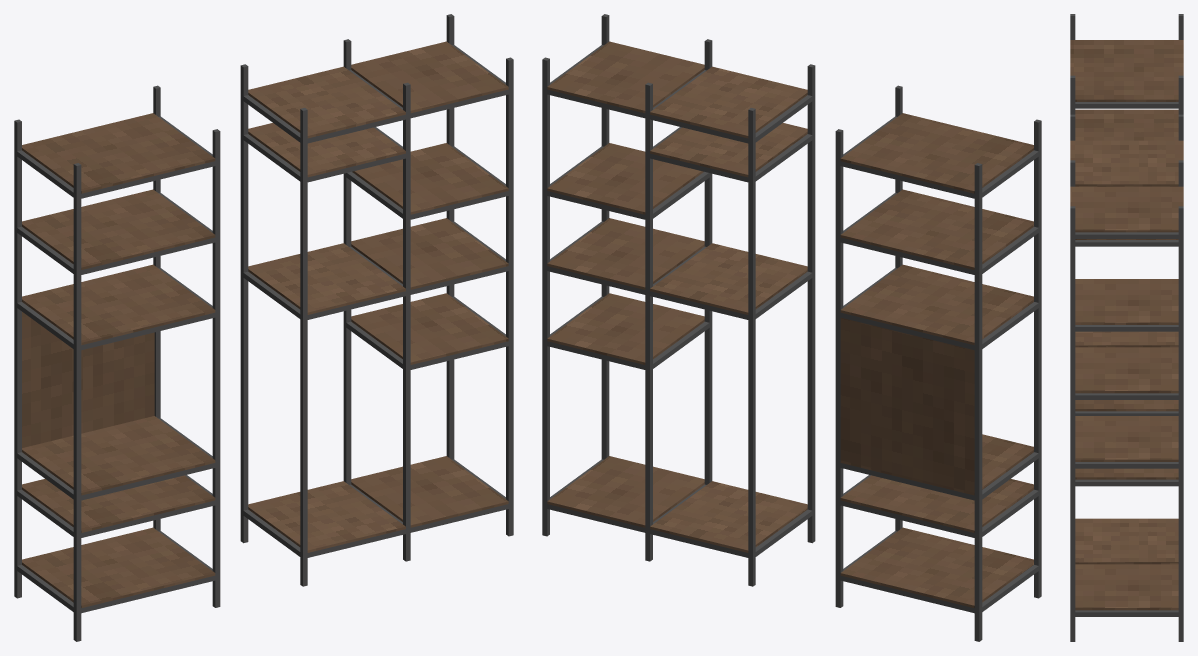
Rendered from metal__wood_shelves.glb.
3 views of the same model, side by side, from view 1: azimuth 30°, elevation 25°; view 2: azimuth 150°, elevation 25°; view 3: azimuth 270°, elevation 25° (orthographic). The views are drawn at different scales.
Parts seen in each view (by area): view 1: Dark wood(85761AF8-3E8E-4EB7-82BF-5B0F585D17DD)_11, Dark wood(28F1198B-73F6-4FEE-9F7B-B69DE7A279D1)_5, Dark wood(1244F119-739F-46DC-8262-0EE8339AA590)_6, Dark wood(0E38AE3A-FBAC-497E-BF09-7EBB66E1BC81)_7, Dark wood(66714A9A-6772-40F4-8CCC-592F55B5C105)_10, Dark wood(6B2FA57E-49BA-439C-B871-0D3EC2E29B31)_8, Dark wood(124CF71E-D57F-4374-884E-A9D99B8D982C)_17, Dark wood(81BDF483-3A7A-4555-8195-AB65B536C3D4)_15, Dark wood(DE1FD934-B613-4BFE-A4E1-D1FFCBE2BC50)_19, Dark wood(4CB23103-FE6A-4BB9-BEF6-0A04AABC9836)_20, Dark wood(F0B161CA-5680-43B2-930D-1FDB2C4F1EB1)_16, Dark wood(A5820728-DC31-44BF-BDFF-5A1452BBE9AD)_12 (+29 smaller); view 2: Dark wood(85761AF8-3E8E-4EB7-82BF-5B0F585D17DD)_11, Dark wood(28F1198B-73F6-4FEE-9F7B-B69DE7A279D1)_5, Dark wood(1244F119-739F-46DC-8262-0EE8339AA590)_6, Dark wood(0E38AE3A-FBAC-497E-BF09-7EBB66E1BC81)_7, Dark wood(66714A9A-6772-40F4-8CCC-592F55B5C105)_10, Dark wood(124CF71E-D57F-4374-884E-A9D99B8D982C)_17, Dark wood(81BDF483-3A7A-4555-8195-AB65B536C3D4)_15, Dark wood(DE1FD934-B613-4BFE-A4E1-D1FFCBE2BC50)_19, Dark wood(4CB23103-FE6A-4BB9-BEF6-0A04AABC9836)_20, Dark wood(F0B161CA-5680-43B2-930D-1FDB2C4F1EB1)_16, Dark wood(A5820728-DC31-44BF-BDFF-5A1452BBE9AD)_12, Dark wood(D76B1013-4CEE-4679-A515-0DD16A063F7F)_13 (+28 smaller); view 3: Dark wood(28F1198B-73F6-4FEE-9F7B-B69DE7A279D1)_5, Dark wood(81BDF483-3A7A-4555-8195-AB65B536C3D4)_15, Dark wood(124CF71E-D57F-4374-884E-A9D99B8D982C)_17, Dark wood(D76B1013-4CEE-4679-A515-0DD16A063F7F)_13, Dark wood(F0B161CA-5680-43B2-930D-1FDB2C4F1EB1)_16, Dark wood(4CB23103-FE6A-4BB9-BEF6-0A04AABC9836)_20, Dark wood(A5820728-DC31-44BF-BDFF-5A1452BBE9AD)_12, Dark wood(32CC674D-AC59-4E3B-B3CA-91F3BCCDACA9)_14, Dark wood(1244F119-739F-46DC-8262-0EE8339AA590)_6, Black metal(E4B611B2-5154-45BB-9670-57C68EE21DF8)_35, Black metal(BE32EDC8-C9D1-462D-BB37-27DAF035CB7C)_34, Dark wood(DE1FD934-B613-4BFE-A4E1-D1FFCBE2BC50)_19 (+13 smaller).
Boxes of the visible parts, x1,y1,x2,y2 form: Dark wood(85761AF8-3E8E-4EB7-82BF-5B0F585D17DD)_11: (22, 312, 154, 447); Dark wood(28F1198B-73F6-4FEE-9F7B-B69DE7A279D1)_5: (22, 113, 215, 193); Dark wood(1244F119-739F-46DC-8262-0EE8339AA590)_6: (22, 189, 215, 269); Dark wood(0E38AE3A-FBAC-497E-BF09-7EBB66E1BC81)_7: (22, 264, 215, 345); Dark wood(66714A9A-6772-40F4-8CCC-592F55B5C105)_10: (22, 527, 215, 607); Dark wood(6B2FA57E-49BA-439C-B871-0D3EC2E29B31)_8: (22, 416, 215, 495); Dark wood(124CF71E-D57F-4374-884E-A9D99B8D982C)_17: (248, 66, 405, 138); Dark wood(81BDF483-3A7A-4555-8195-AB65B536C3D4)_15: (351, 41, 508, 113); Dark wood(DE1FD934-B613-4BFE-A4E1-D1FFCBE2BC50)_19: (248, 243, 405, 314); Dark wood(4CB23103-FE6A-4BB9-BEF6-0A04AABC9836)_20: (248, 481, 405, 552); Dark wood(F0B161CA-5680-43B2-930D-1FDB2C4F1EB1)_16: (351, 456, 508, 527); Dark wood(A5820728-DC31-44BF-BDFF-5A1452BBE9AD)_12: (351, 293, 508, 364); Dark wood(85761AF8-3E8E-4EB7-82BF-5B0F585D17DD)_11: (840, 317, 974, 492); Dark wood(28F1198B-73F6-4FEE-9F7B-B69DE7A279D1)_5: (840, 113, 1033, 193); Dark wood(1244F119-739F-46DC-8262-0EE8339AA590)_6: (840, 189, 1033, 269); Dark wood(0E38AE3A-FBAC-497E-BF09-7EBB66E1BC81)_7: (840, 264, 1033, 345); Dark wood(66714A9A-6772-40F4-8CCC-592F55B5C105)_10: (840, 527, 1033, 607); Dark wood(124CF71E-D57F-4374-884E-A9D99B8D982C)_17: (650, 66, 807, 138); Dark wood(81BDF483-3A7A-4555-8195-AB65B536C3D4)_15: (547, 41, 704, 113); Dark wood(DE1FD934-B613-4BFE-A4E1-D1FFCBE2BC50)_19: (650, 243, 807, 314); Dark wood(4CB23103-FE6A-4BB9-BEF6-0A04AABC9836)_20: (650, 481, 807, 552); Dark wood(F0B161CA-5680-43B2-930D-1FDB2C4F1EB1)_16: (547, 456, 704, 527); Dark wood(A5820728-DC31-44BF-BDFF-5A1452BBE9AD)_12: (547, 293, 704, 364); Dark wood(D76B1013-4CEE-4679-A515-0DD16A063F7F)_13: (547, 218, 704, 289); Dark wood(28F1198B-73F6-4FEE-9F7B-B69DE7A279D1)_5: (1070, 40, 1183, 101); Dark wood(81BDF483-3A7A-4555-8195-AB65B536C3D4)_15: (1070, 186, 1183, 232); Dark wood(124CF71E-D57F-4374-884E-A9D99B8D982C)_17: (1070, 140, 1183, 186); Dark wood(D76B1013-4CEE-4679-A515-0DD16A063F7F)_13: (1075, 347, 1178, 393); Dark wood(F0B161CA-5680-43B2-930D-1FDB2C4F1EB1)_16: (1075, 564, 1178, 610); Dark wood(4CB23103-FE6A-4BB9-BEF6-0A04AABC9836)_20: (1075, 518, 1178, 564); Dark wood(A5820728-DC31-44BF-BDFF-5A1452BBE9AD)_12: (1075, 416, 1178, 461); Dark wood(32CC674D-AC59-4E3B-B3CA-91F3BCCDACA9)_14: (1075, 279, 1178, 324); Dark wood(1244F119-739F-46DC-8262-0EE8339AA590)_6: (1075, 109, 1178, 140); Black metal(E4B611B2-5154-45BB-9670-57C68EE21DF8)_35: (1178, 206, 1183, 641); Black metal(BE32EDC8-C9D1-462D-BB37-27DAF035CB7C)_34: (1070, 206, 1075, 641); Dark wood(DE1FD934-B613-4BFE-A4E1-D1FFCBE2BC50)_19: (1075, 331, 1178, 347).
Bounding box in the file's own units: 0.1826 × 0.19 × 0.045.
43 materials, 16 textured.
